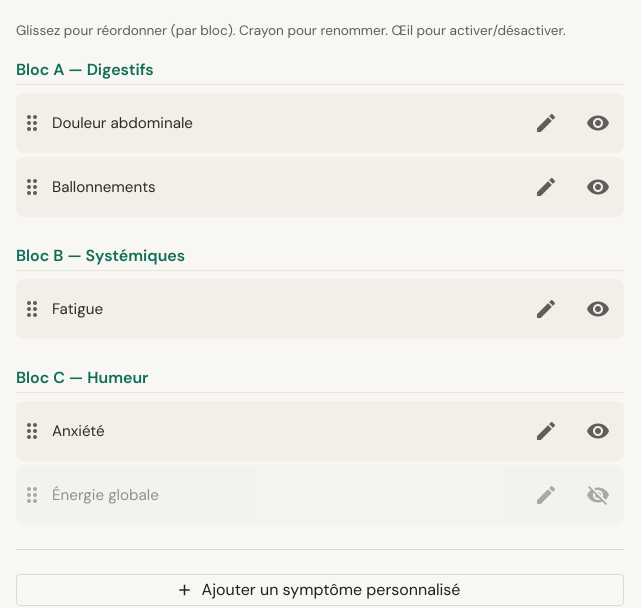
Test case: SymptomsConfigComponent › annuler le formulaire d'ajout ferme le formulaire sans sauvegarder
The width and height of the screenshot is (641, 608).
Click the button with test id "toggle-add-form" at (320, 590), box [16,574,624,606]
(page scrolled)
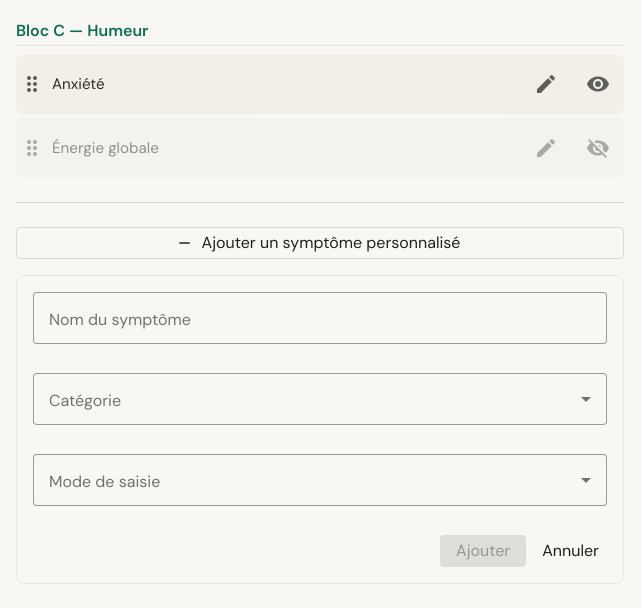
Expected: the element with test id "add-form" is shown, [16,275,624,584]
Click the button with aria-label "Annuler l" at (571, 551), box [534,535,607,567]
(page scrolled)
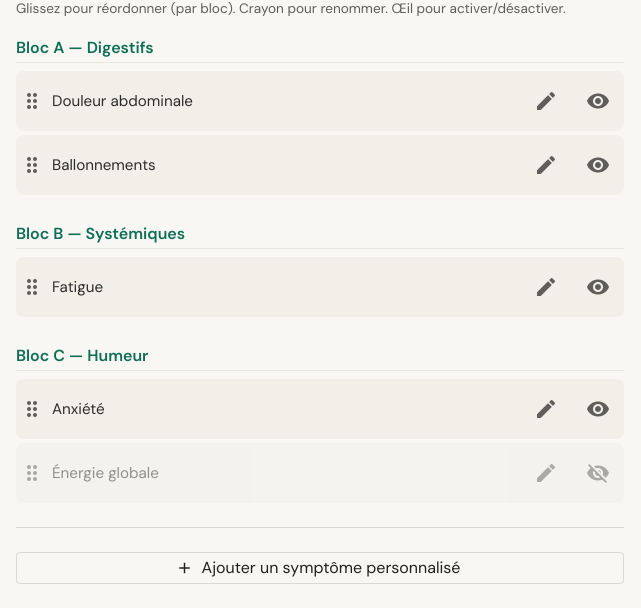
Expected: the element with test id "add-form" is gone
